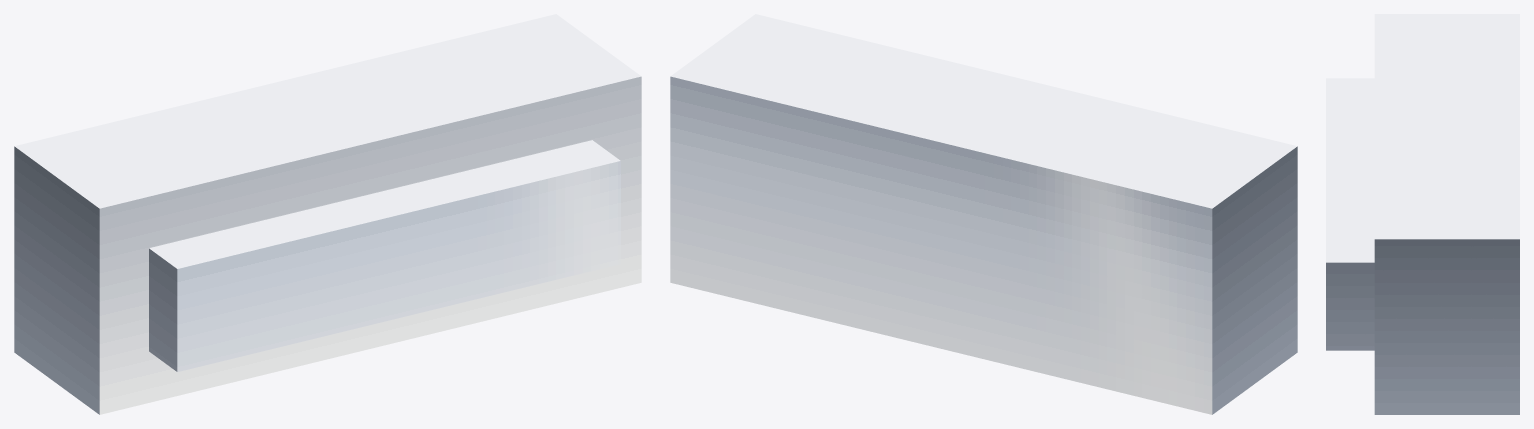
Rendered from hyphen.glb.
3 renders of one model, left to right at view 1: azimuth 30°, elevation 25°; view 2: azimuth 150°, elevation 25°; view 3: azimuth 270°, elevation 25°, orthographic. The views are drawn at different scales.
Parts seen in each view (by area): view 1: Letter hyphen; view 2: Letter hyphen; view 3: Letter hyphen.
Part boxes in pixels (box(x1,y1,x2,y2)): Letter hyphen: box(14, 14, 641, 414); Letter hyphen: box(670, 14, 1297, 414); Letter hyphen: box(1326, 14, 1519, 414).
Bounding box in the file's own units: 0.6875 × 0.25 × 0.25.
1 material, 1 textured.
